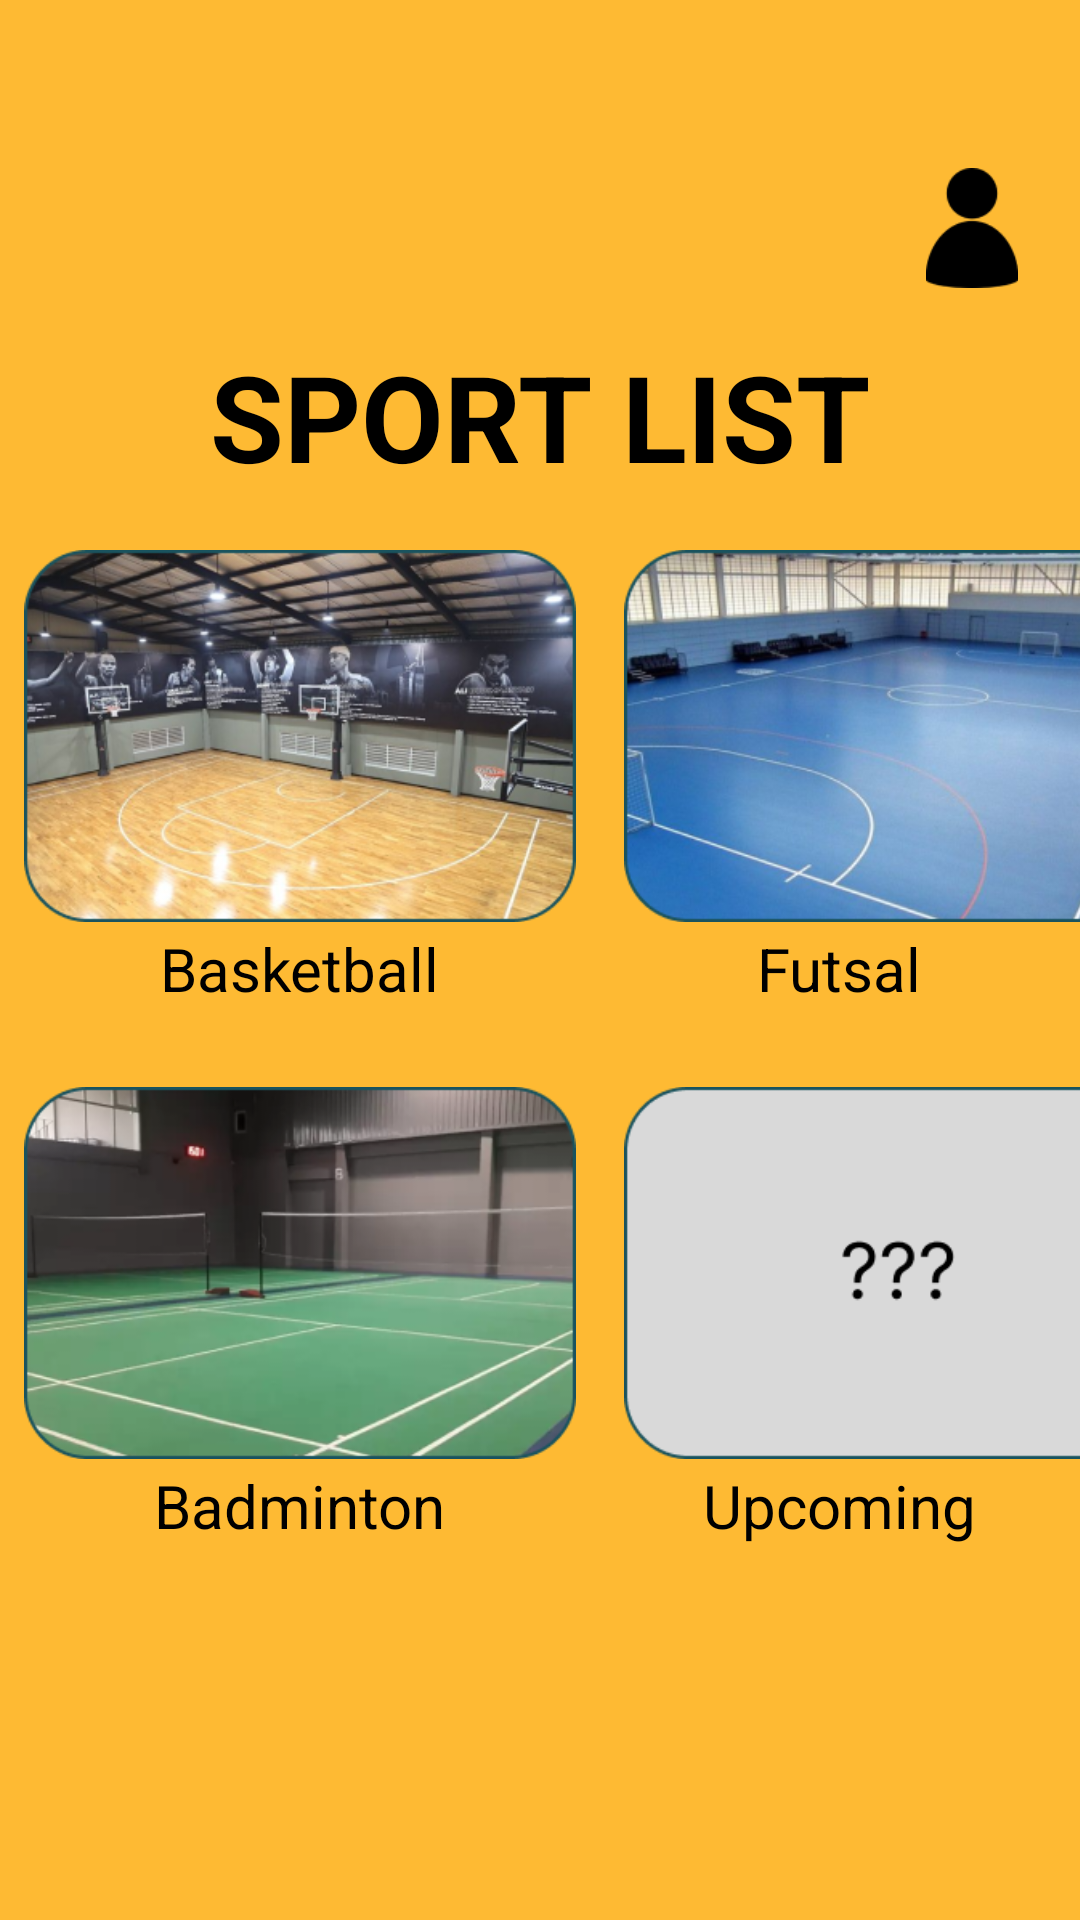

Point at icon controls on the screen. Image size 1080w x 1920h, points as [x,y].
profile: [972,228]
